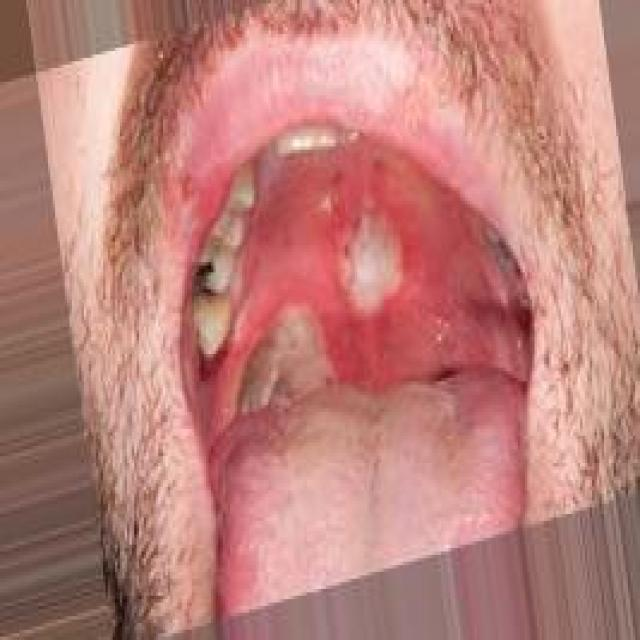caries: (184, 249, 231, 319), (483, 223, 525, 280)
